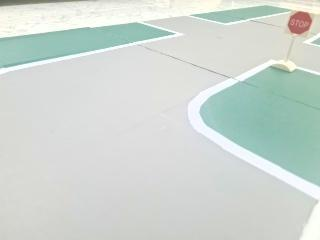stop: (283, 3, 315, 45)
